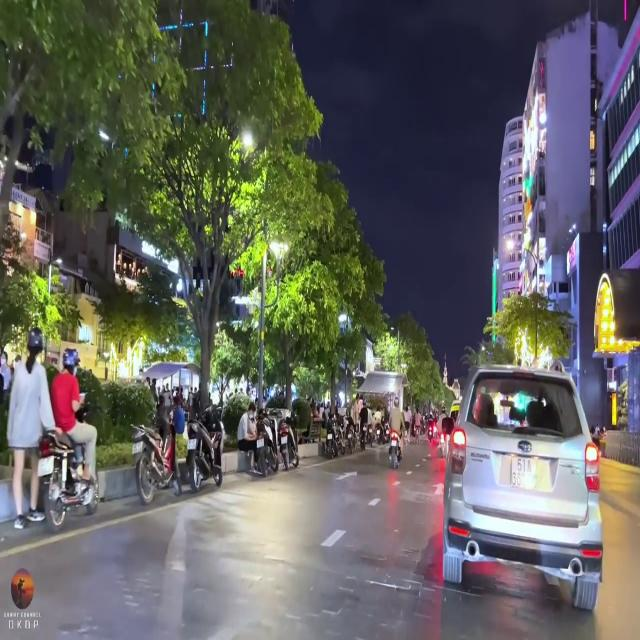bien_trang: (510, 451, 537, 496)
